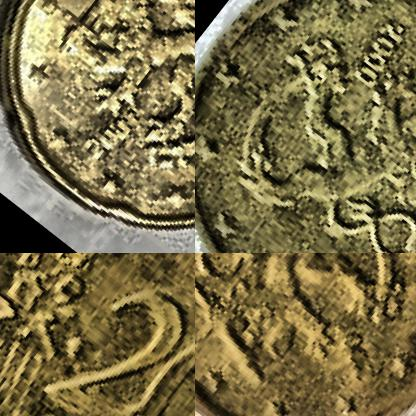coin: (195, 0, 415, 252), (0, 0, 194, 252), (195, 253, 415, 415), (0, 253, 194, 415)
